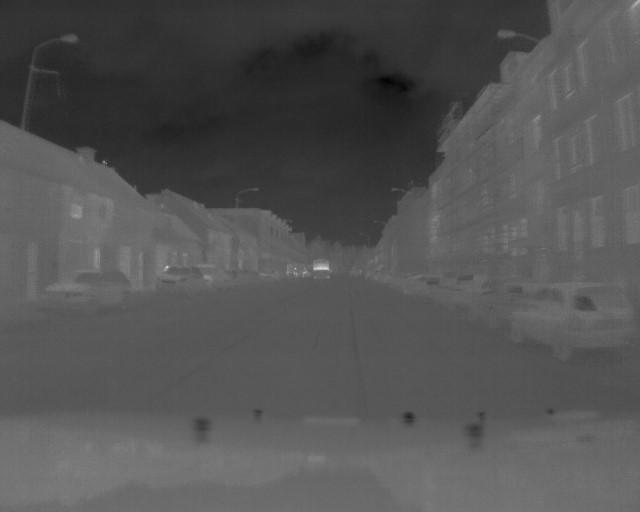car: (508, 282, 635, 364), (44, 264, 135, 317), (468, 277, 550, 335), (155, 263, 207, 298)
